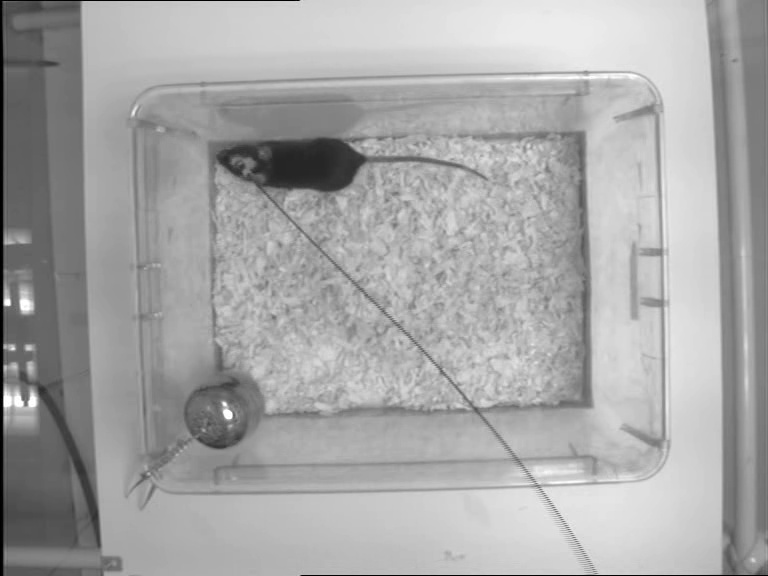mice: (216, 135, 487, 192)
